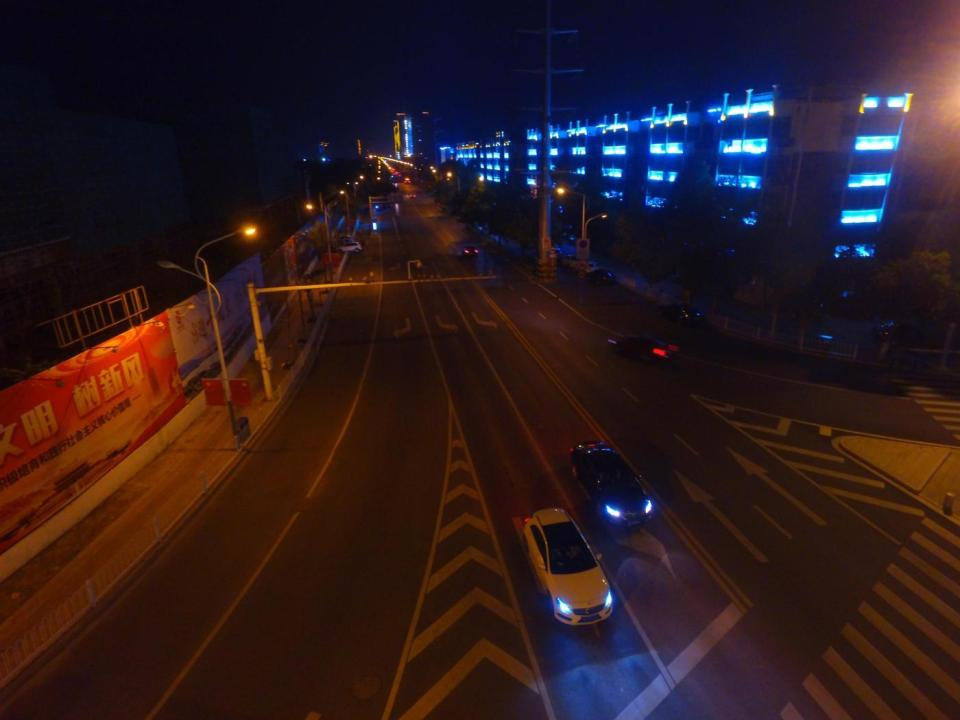car: (520, 514, 610, 629), (567, 439, 651, 528), (610, 334, 674, 364), (658, 305, 703, 325), (590, 269, 615, 286), (332, 241, 363, 254), (333, 234, 355, 245), (460, 245, 479, 257), (408, 192, 417, 200), (403, 178, 412, 185)
